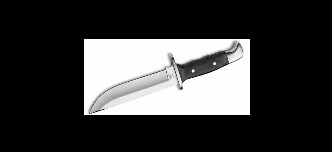k1: (88, 48, 191, 115)
